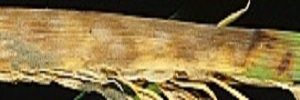RiceSheathBrownRot: (3, 6, 300, 89)
